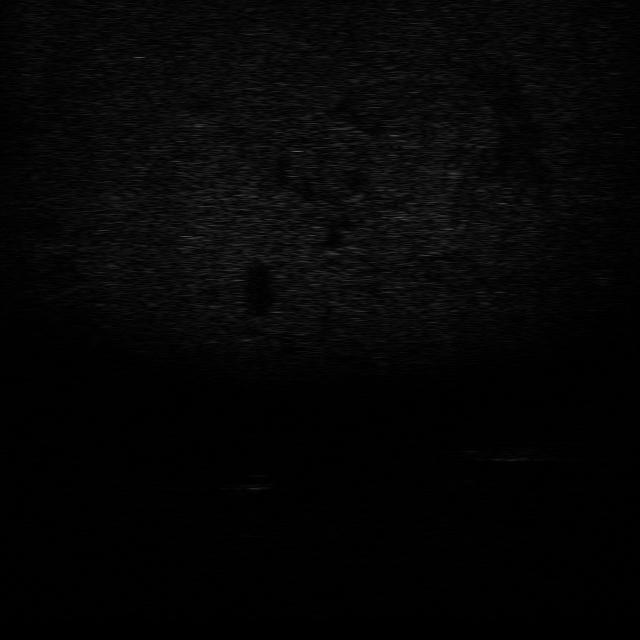ball: (231, 469, 279, 494)
human body: (462, 433, 572, 465)
